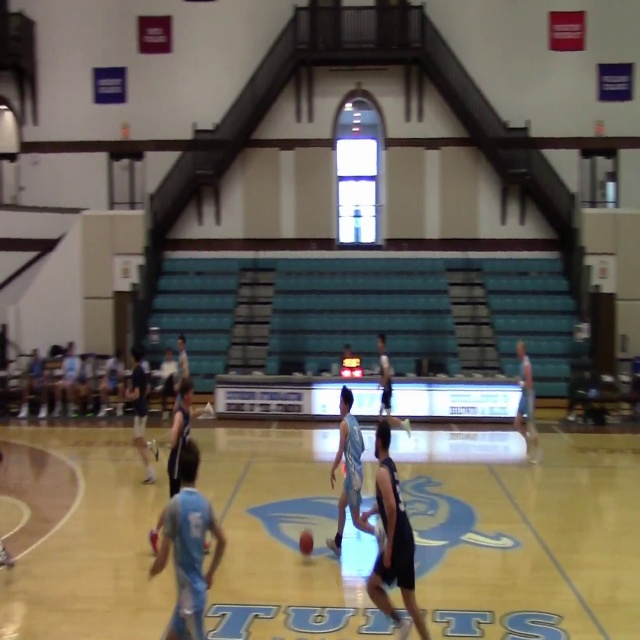Basketball: (299, 529, 313, 554), (149, 529, 160, 554)
